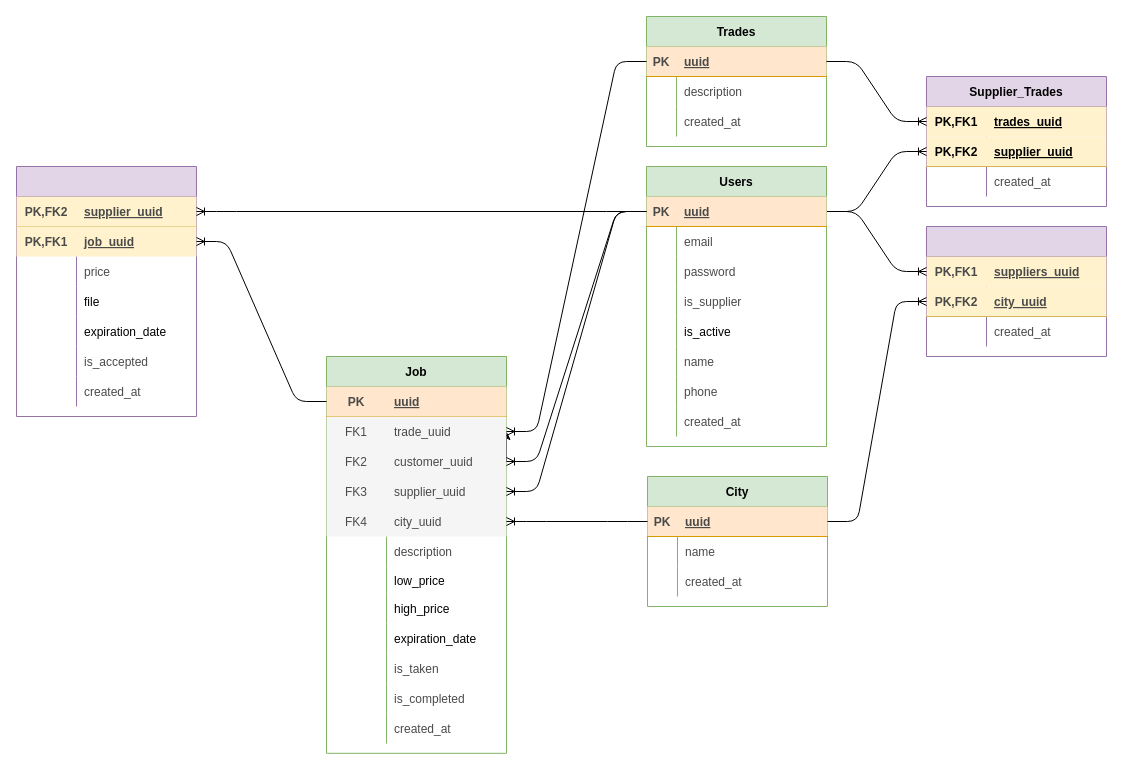
The diagram is 1123 pixels wide and 770 high, and some of its shapes have lost their labels. Here are the shapes that lost their labels. From the top down, the box of each, then its label:
(16, 166, 196, 416): Proposal
(926, 226, 1106, 356): Suppliers_city
